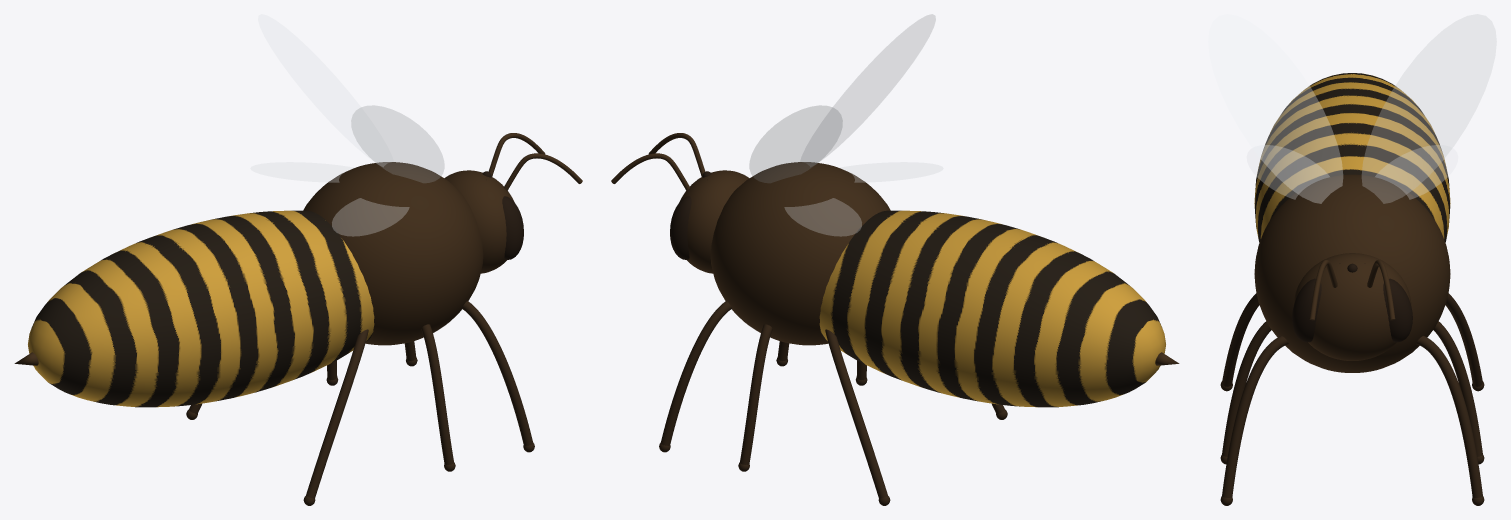
Rendered from bee-hero-cerana-queen-low.glb.
The picture shows the model from 3 angles, left to right: view 1: azimuth 30°, elevation 25°; view 2: azimuth 150°, elevation 25°; view 3: azimuth 270°, elevation 25°; orthographic projection. The views are drawn at different scales.
Visible parts, largest first — view 1: abdomen, thorax, foreWingL, foreWingR, head, hindWingR, hindLegR, foreLegR, hindWingL, midLegR, compoundEyeR; view 2: abdomen, thorax, foreWingR, foreWingL, head, hindWingL, hindLegL, foreLegL, hindWingR, midLegL, compoundEyeL; view 3: thorax, abdomen, foreWingL, foreWingR, head, hindWingL, hindWingR, foreLegL, foreLegR, midLegL, midLegR, compoundEyeL (+5 smaller).
Part boxes in pixels (x1=…): abdomen: x1=28, y1=210, x2=374, y2=407; thorax: x1=303, y1=162, x2=483, y2=345; foreWingL: x1=258, y1=14, x2=393, y2=166; foreWingR: x1=351, y1=105, x2=444, y2=182; head: x1=444, y1=170, x2=514, y2=273; hindWingR: x1=332, y1=198, x2=409, y2=236; hindLegR: x1=306, y1=329, x2=368, y2=498; foreLegR: x1=462, y1=301, x2=533, y2=445; hindWingL: x1=250, y1=162, x2=353, y2=182; midLegR: x1=421, y1=324, x2=453, y2=464; compoundEyeR: x1=502, y1=196, x2=523, y2=259; abdomen: x1=819, y1=210, x2=1165, y2=407; thorax: x1=710, y1=162, x2=890, y2=345; foreWingR: x1=800, y1=14, x2=935, y2=166; foreWingL: x1=749, y1=105, x2=842, y2=182; head: x1=679, y1=170, x2=749, y2=273; hindWingL: x1=784, y1=198, x2=861, y2=236; hindLegL: x1=825, y1=329, x2=887, y2=498; foreLegL: x1=660, y1=301, x2=731, y2=445; hindWingR: x1=840, y1=162, x2=943, y2=182; midLegL: x1=740, y1=324, x2=772, y2=464; compoundEyeL: x1=670, y1=196, x2=691, y2=259; thorax: x1=1254, y1=174, x2=1450, y2=372; abdomen: x1=1254, y1=73, x2=1450, y2=242; foreWingL: x1=1362, y1=14, x2=1496, y2=203; foreWingR: x1=1208, y1=14, x2=1342, y2=203; head: x1=1293, y1=253, x2=1411, y2=360; hindWingL: x1=1375, y1=145, x2=1457, y2=199; hindWingR: x1=1247, y1=145, x2=1329, y2=199; foreLegL: x1=1416, y1=336, x2=1482, y2=497; foreLegR: x1=1222, y1=336, x2=1288, y2=497; midLegL: x1=1433, y1=321, x2=1482, y2=456; midLegR: x1=1222, y1=321, x2=1271, y2=456; compoundEyeL: x1=1383, y1=278, x2=1412, y2=342.
Bounding box in the file's own units: 1.3 × 0.867 × 0.5515.
Materials: 5 (1 with a texture image).
